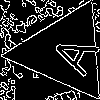A: (39, 27, 100, 77)
